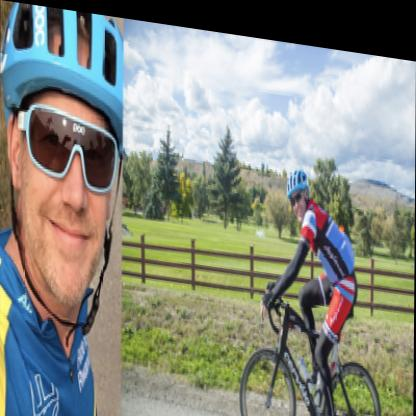With Helmet: (283, 154, 317, 222)
